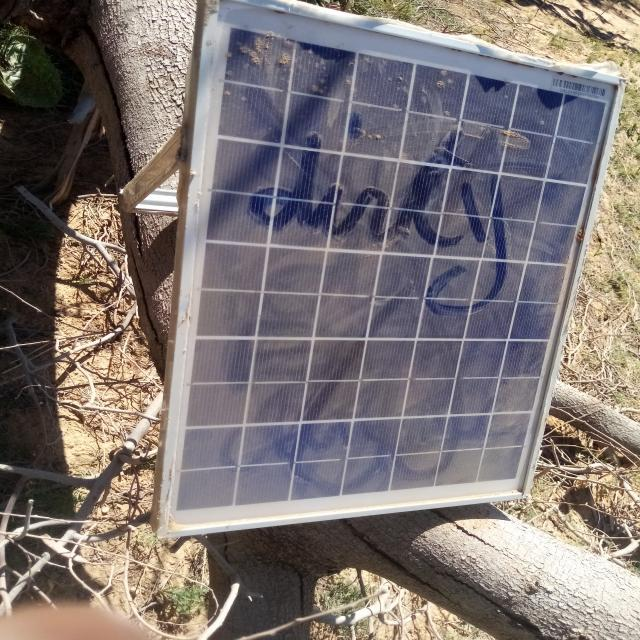faulty: (164, 0, 624, 534)
